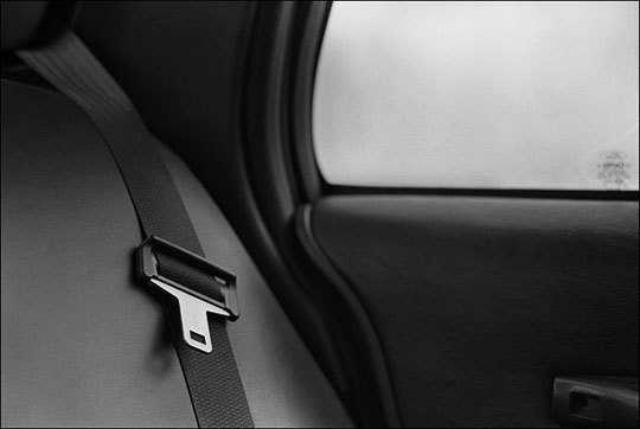Seatbelt: (12, 27, 258, 428)
